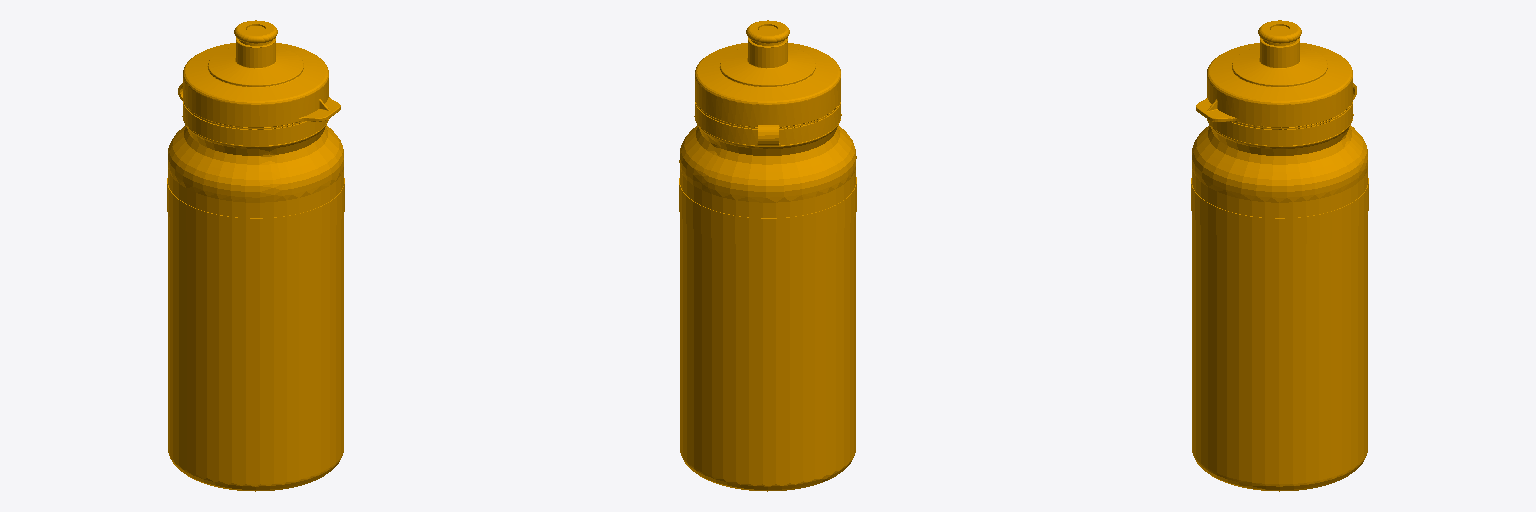
URDF robot description (waterbottle):
<robot name="waterbottle">
  <link name="waterbottle">
    <inertial>
      <origin xyz="0 0 0.0145"/>
      <mass value="0.1" />
      <inertia  ixx="0.0001" ixy="0.0"  ixz="0.0"  iyy="0.0001"  iyz="0.0"  izz="0.0001" />
    </inertial>
    <visual>
      <origin xyz="0 0 0.0145"/>
      <geometry>        
     <mesh filename="waterbottle.dae" scale="1 1 1"/>
    </geometry>
    </visual>
    <collision>
      <origin xyz="0 0 0.0145"/>
      <geometry>
        <box size="0.029 0.029 0.029"/>
      </geometry>
    </collision>
  </link>
  <gazebo reference="waterbottle">
    <material>Gazebo/Blue</material>
  </gazebo>
</robot>

--- Render facts (derived) ---
3 views of the same robot in one strip: view 1: azimuth 30°, elevation 25°; view 2: azimuth 150°, elevation 25°; view 3: azimuth 270°, elevation 25° (orthographic).
Model waterbottle with 1 links and 0 joints (none), rooted at waterbottle, posed every joint at zero.
Visible links, largest first — view 1: waterbottle; view 2: waterbottle; view 3: waterbottle.
Link boxes in pixels (x1,y1,x2,y2): waterbottle: [167, 20, 344, 491]; waterbottle: [679, 20, 856, 491]; waterbottle: [1191, 20, 1368, 491].
Size in the robot's own frame: 0.0716 by 0.0716 by 0.1909 metres.
Meshes: 1 distinct files referenced, 1 mesh visuals loaded (1 Collada DAE).